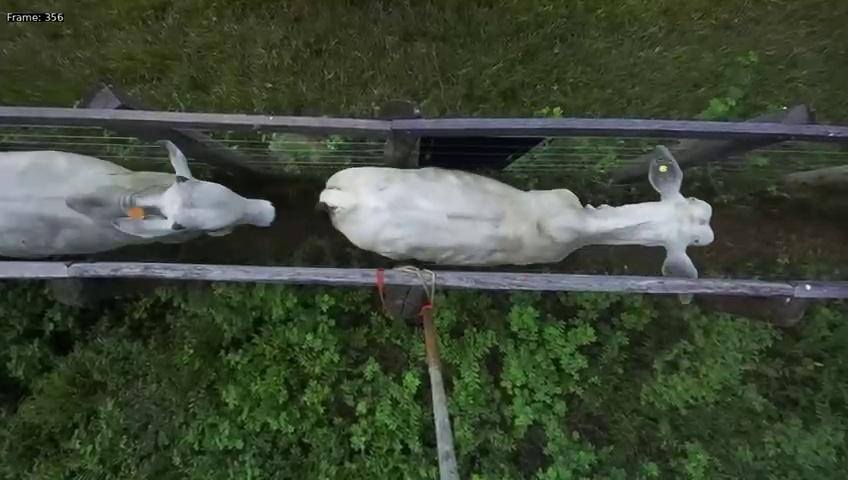cattle: (313, 135, 718, 278), (1, 134, 277, 262)
